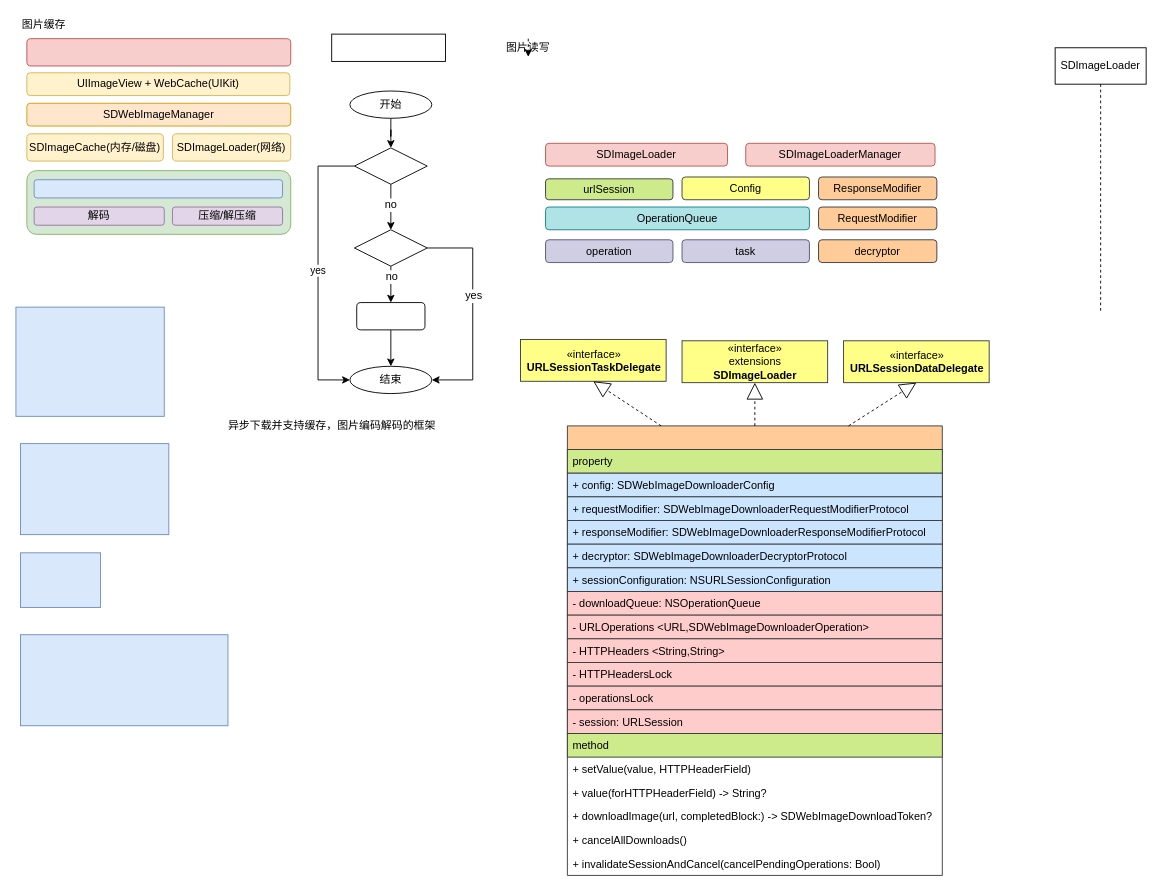
This 1162x894 diagram has some shape labels left out. Here are the shapes that lost their labels. From the top down, the box of each, then its label:
(26, 38, 291, 66): SDWebImage
(331, 33, 445, 61): 图片读写方式：使用 url 的hash值作为读写
(354, 147, 427, 184): 内存命中
(33, 179, 283, 198): image 编码
(354, 229, 427, 266): 磁盘命中
(356, 302, 425, 330): 网络下载
(15, 306, 164, 416): 内存设计 存储size * 10kb * 50kb * 100kb 淘汰策略(OS内存淘汰机制) * FIFO * LRU
(20, 443, 169, 535): 磁盘设计 存储size 存储方式 淘汰策略(OS内存淘汰机制) * 文件排序，根据时间删除
(20, 552, 101, 607): 网络设计 并发设计 请求超时处理 请求优先级
(566, 425, 942, 875): SDWebImageLoader
(20, 634, 228, 726): 图片解码 使用策略模式根据不同格式文件进行解码 何时解码处理(解码一般在 main thread 中进行) 1. 磁盘读取后 2. 网络请求返回后
